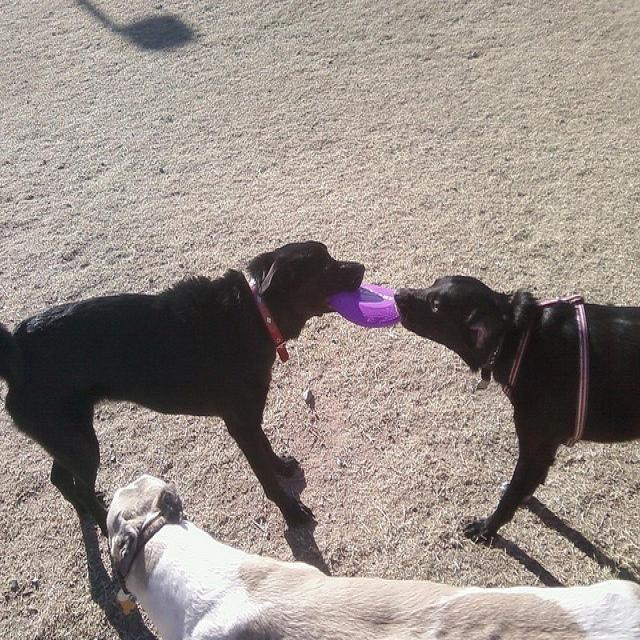dog: (0, 236, 364, 532), (105, 470, 639, 634), (394, 276, 637, 535)
